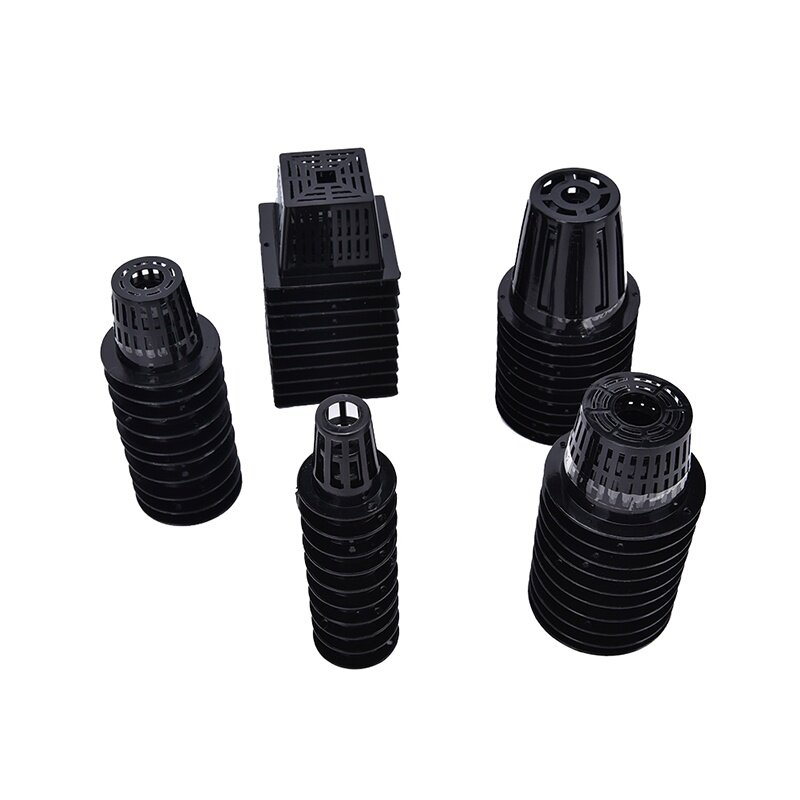basket: (483, 145, 662, 352), (545, 360, 727, 536), (80, 249, 227, 392), (284, 392, 414, 526)
